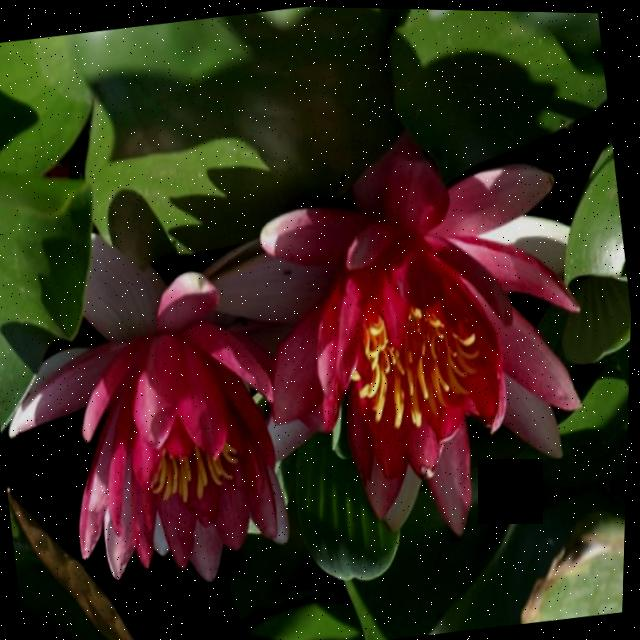rose: (0, 22, 639, 640)
